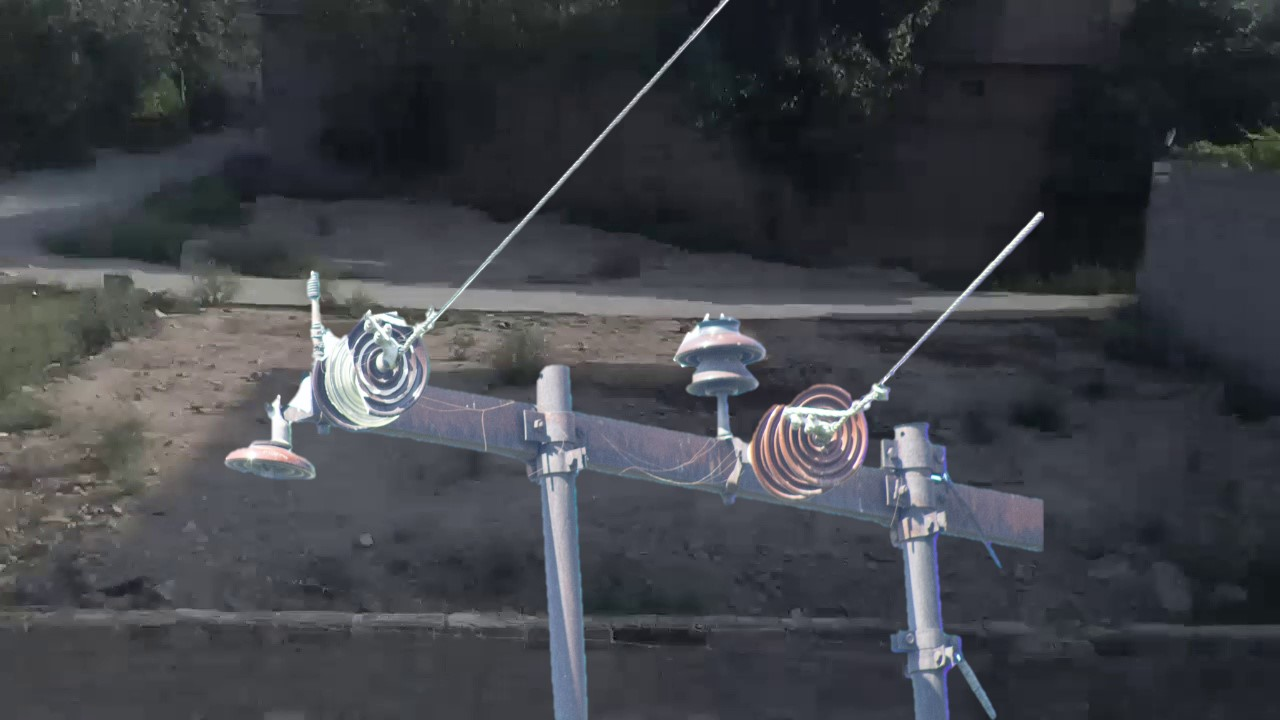defect_disc: (343, 307, 430, 420)
insulator_disc: (776, 378, 871, 491), (222, 428, 319, 487)
